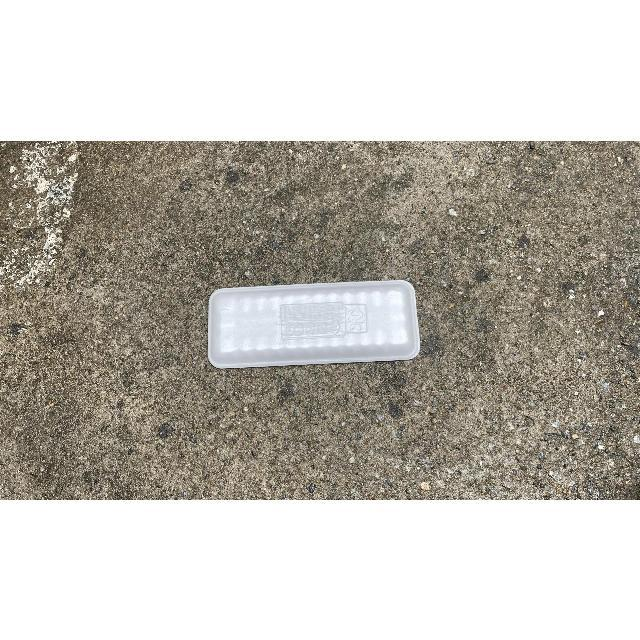Plastico descartable: (207, 280, 421, 371)
